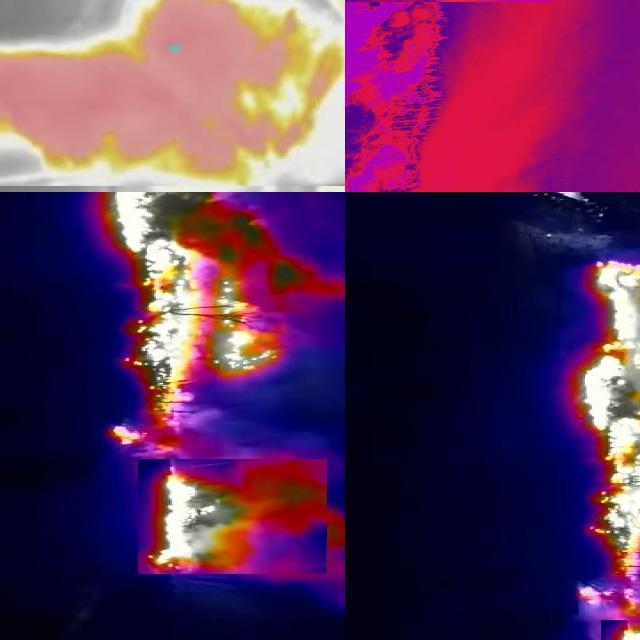fire: (1, 1, 346, 187), (95, 193, 325, 453), (572, 262, 640, 616), (138, 460, 327, 575)
